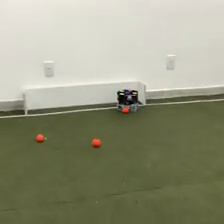ball: (92, 136, 101, 148), (35, 132, 44, 142), (122, 104, 129, 113)
goal: (21, 79, 147, 117)
robot: (116, 88, 140, 113)
